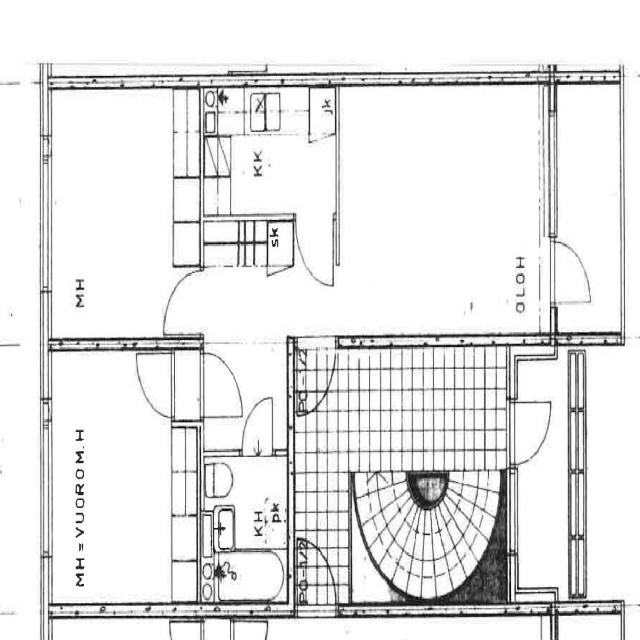door: (298, 334, 335, 412), (199, 352, 241, 418), (548, 242, 591, 304), (134, 352, 174, 418), (164, 270, 204, 333), (242, 396, 272, 456)
